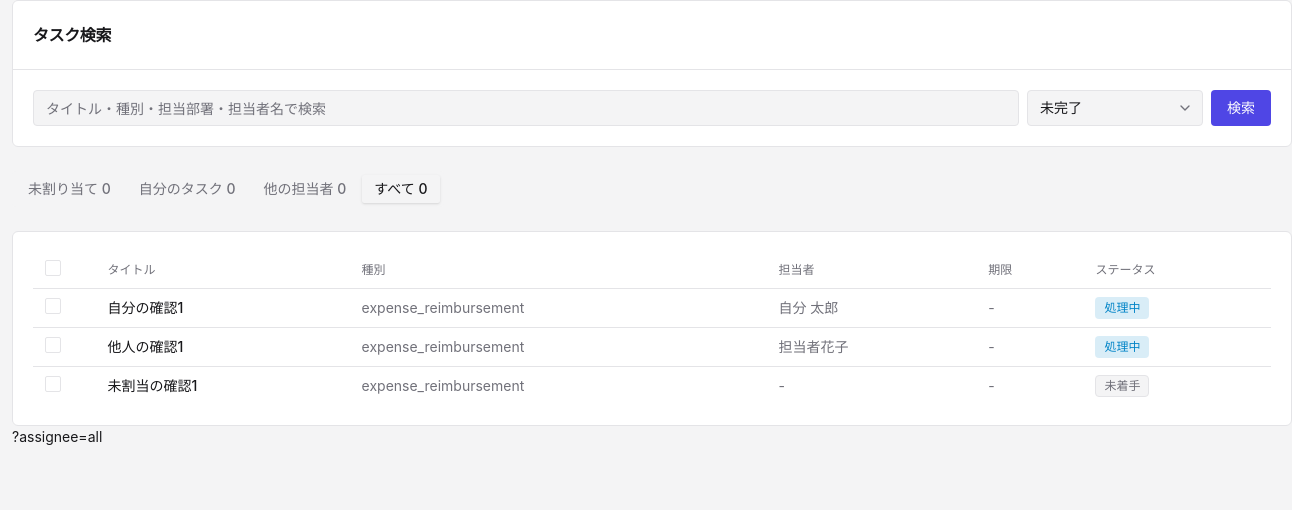
Test: BackOfficeTaskListPage › disables bulk completion with a reason when the selection contains others or unassigned tasks
Click the checkbox named "自分の確認1を選択" at (53, 306), box [45, 298, 61, 314]
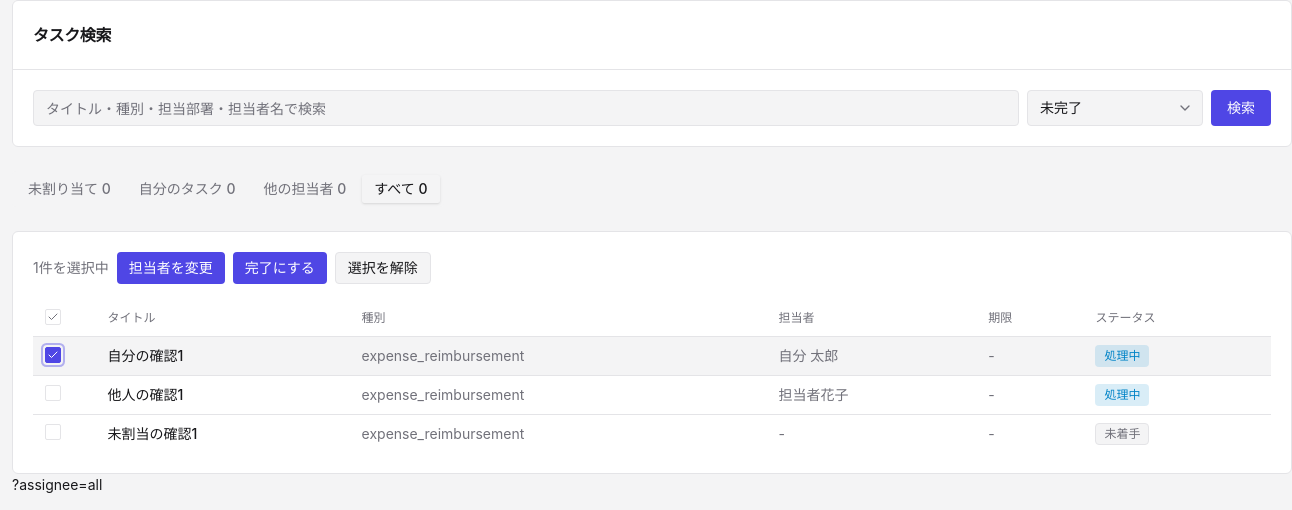
Check: the button "完了にする" is enabled, box [233, 252, 327, 284]
Click the checkbox named "他人の確認1を選択" at (53, 392), box [45, 384, 61, 400]
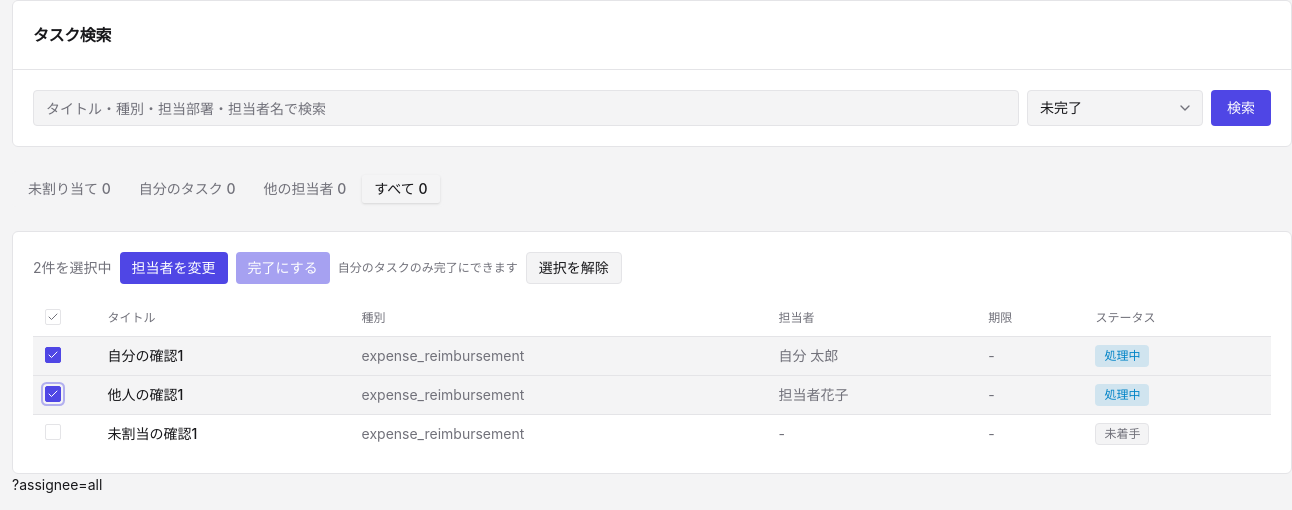
Check: the button "完了にする" is disabled, box [236, 252, 330, 284]
Check: the text "自分のタスクのみ完了にできます" is shown, box [338, 260, 518, 276]
